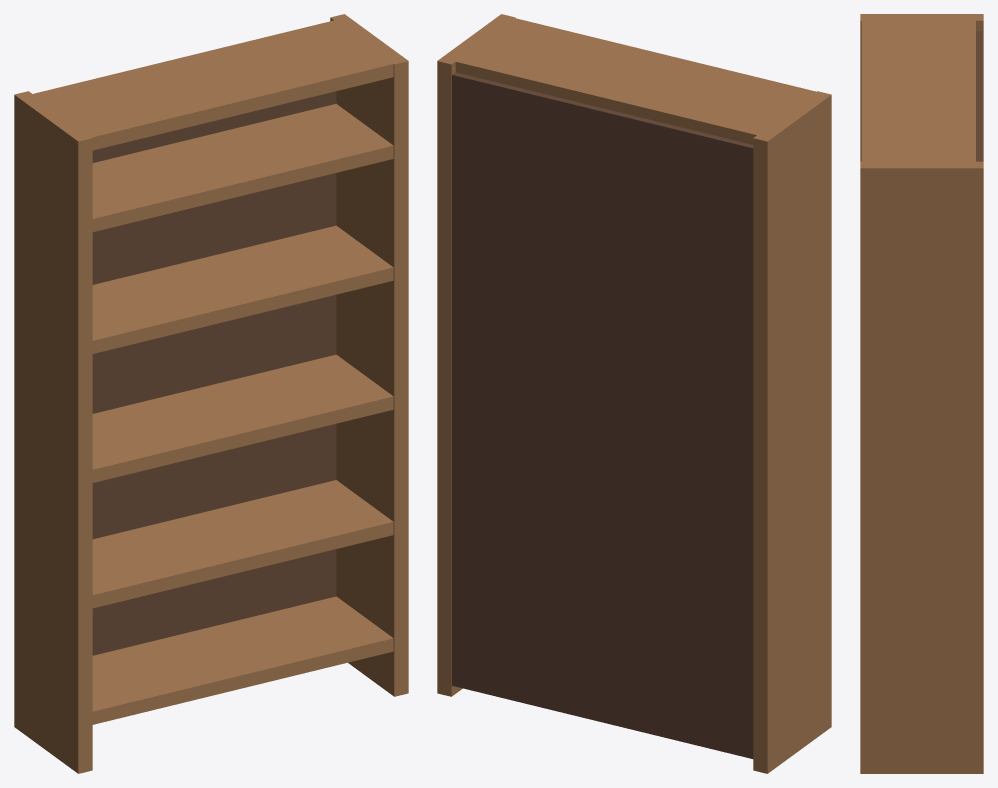
File: bookcase.glb
3 views of the same model, side by side, from view 1: azimuth 30°, elevation 25°; view 2: azimuth 150°, elevation 25°; view 3: azimuth 270°, elevation 25° (orthographic). The views are drawn at different scales.
Visible parts, largest first — view 1: Back, Side, Side.001, Shelf.005, Shelf, Shelf.002, Shelf.001, Shelf.003, Shelf.004; view 2: Back, Side, Shelf.005, Side.001; view 3: Side.001, Shelf.005, Side, Back.
Part boxes in pixels (x1,y1,x2,y2): Back: (92,91,336,655); Side: (14,91,92,773); Side.001: (330,14,408,696); Shelf.005: (31,20,393,150); Shelf: (92,596,393,724); Shelf.002: (92,354,393,482); Shelf.001: (92,480,393,608); Shelf.003: (92,225,393,353); Shelf.004: (92,103,393,231); Back: (452,72,753,758); Side: (753,91,831,773); Shelf.005: (455,17,817,144); Side.001: (437,14,515,696); Side.001: (860,161,983,773); Shelf.005: (862,20,975,162); Side: (860,14,983,161); Back: (976,31,982,161).
Size of the model in its own units: 0.965 by 1.77 by 0.325.
